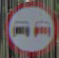No overtake: (9, 5, 51, 45)
